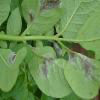Potato leaf late blight: (25, 41, 76, 99), (60, 40, 100, 97), (21, 0, 65, 39), (0, 43, 29, 92)
